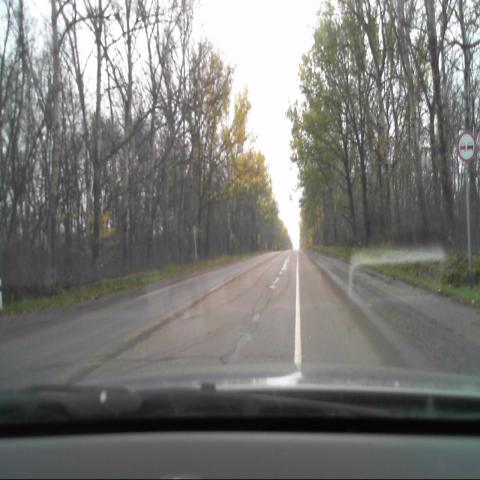3_20: (456, 131, 476, 162)
